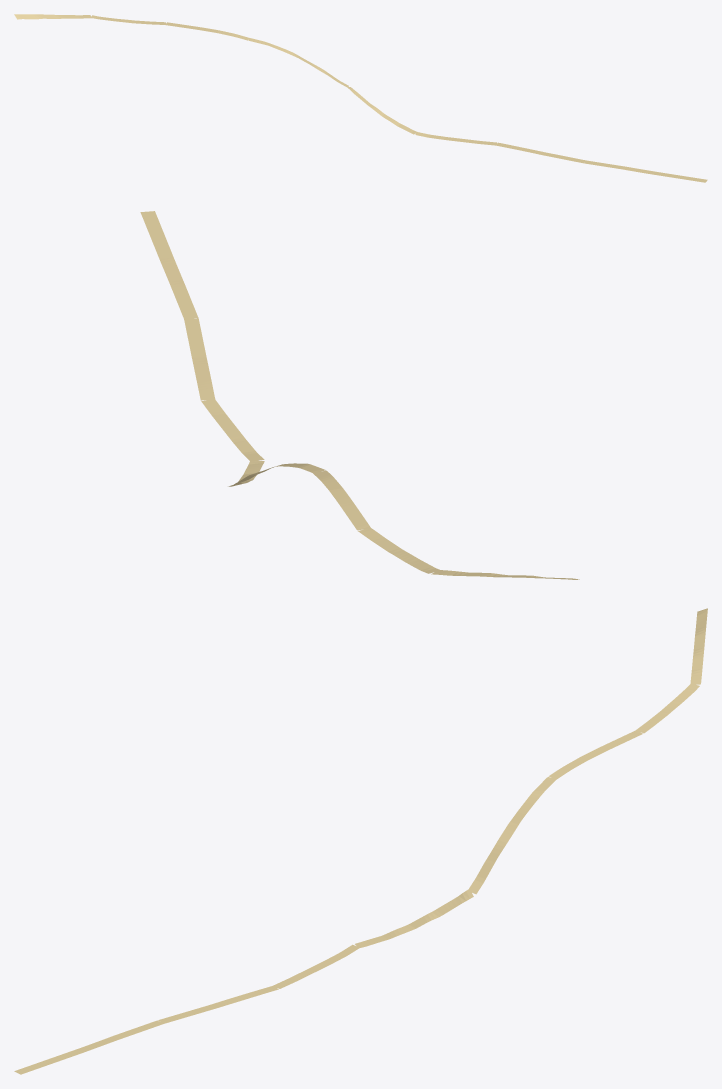
The model's file is Trail_20.glb.
3 renders of one model, top to bottom at view 1: azimuth 30°, elevation 25°; view 2: azimuth 150°, elevation 25°; view 3: azimuth 270°, elevation 25°, orthographic. The views are drawn at different scales.
Parts seen in each view (by area): view 1: Trail_20; view 2: Trail_20; view 3: Trail_20.
Boxes of the visible parts, bbox=[...] form: Trail_20: bbox=[14, 14, 707, 182]; Trail_20: bbox=[140, 211, 579, 579]; Trail_20: bbox=[14, 608, 707, 1074].
Bounding box in the file's own units: 125 × 26.63 × 114.
